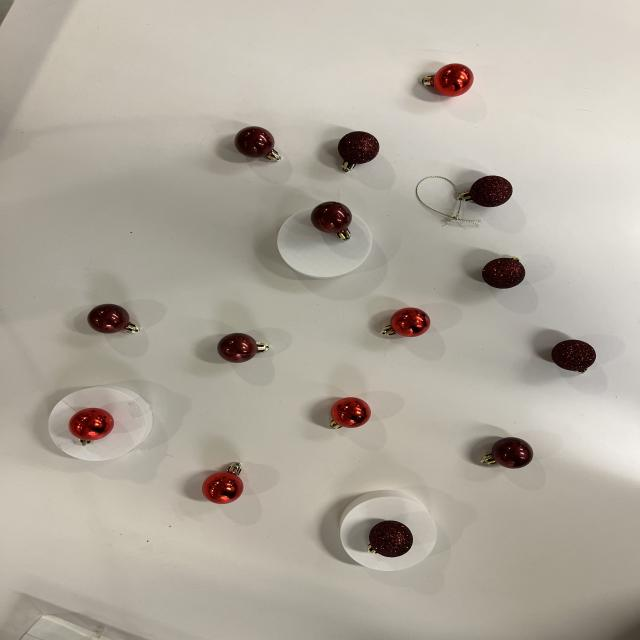glitter-bauble: (326, 124, 386, 179), (544, 335, 602, 382), (451, 172, 520, 210), (361, 517, 418, 560), (474, 252, 532, 292), (338, 131, 380, 173), (458, 176, 513, 208), (368, 520, 413, 557), (551, 340, 596, 374), (482, 257, 526, 289)
glossy-bauble: (197, 456, 251, 509), (415, 60, 478, 100), (65, 405, 118, 448), (378, 305, 433, 343), (324, 394, 375, 434), (420, 63, 474, 97), (202, 461, 244, 504), (68, 408, 114, 447), (380, 308, 431, 337), (329, 397, 371, 429)
wine-red-bauble: (472, 431, 539, 471), (228, 123, 289, 165), (306, 197, 358, 246), (211, 327, 276, 364), (82, 300, 144, 338), (234, 126, 282, 162), (480, 437, 533, 469), (311, 202, 352, 241), (218, 333, 271, 363), (88, 304, 140, 334)
